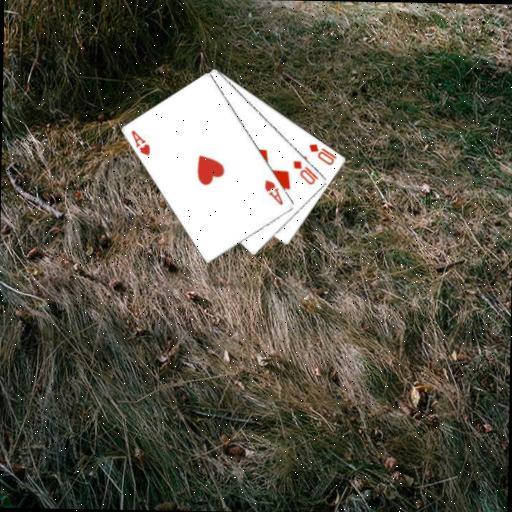10D: (290, 157, 320, 186), (307, 140, 339, 166)
AH: (128, 127, 153, 157), (261, 177, 285, 207)
